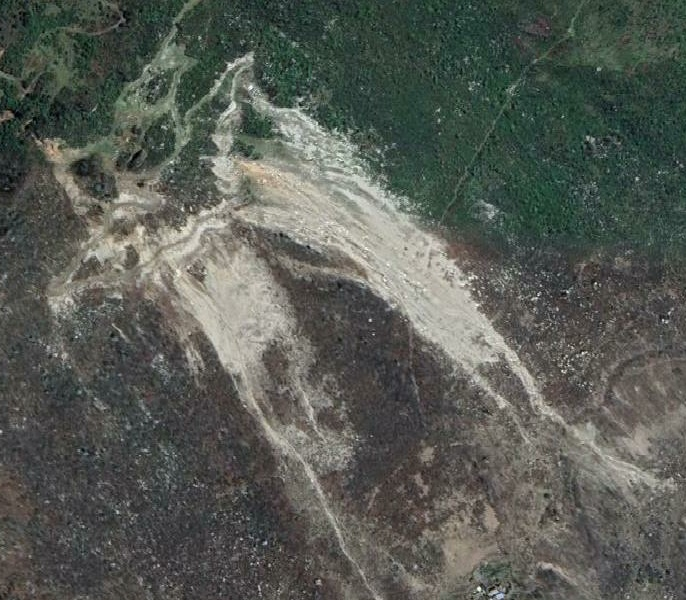slope: (240, 74, 668, 496), (172, 229, 366, 586)
